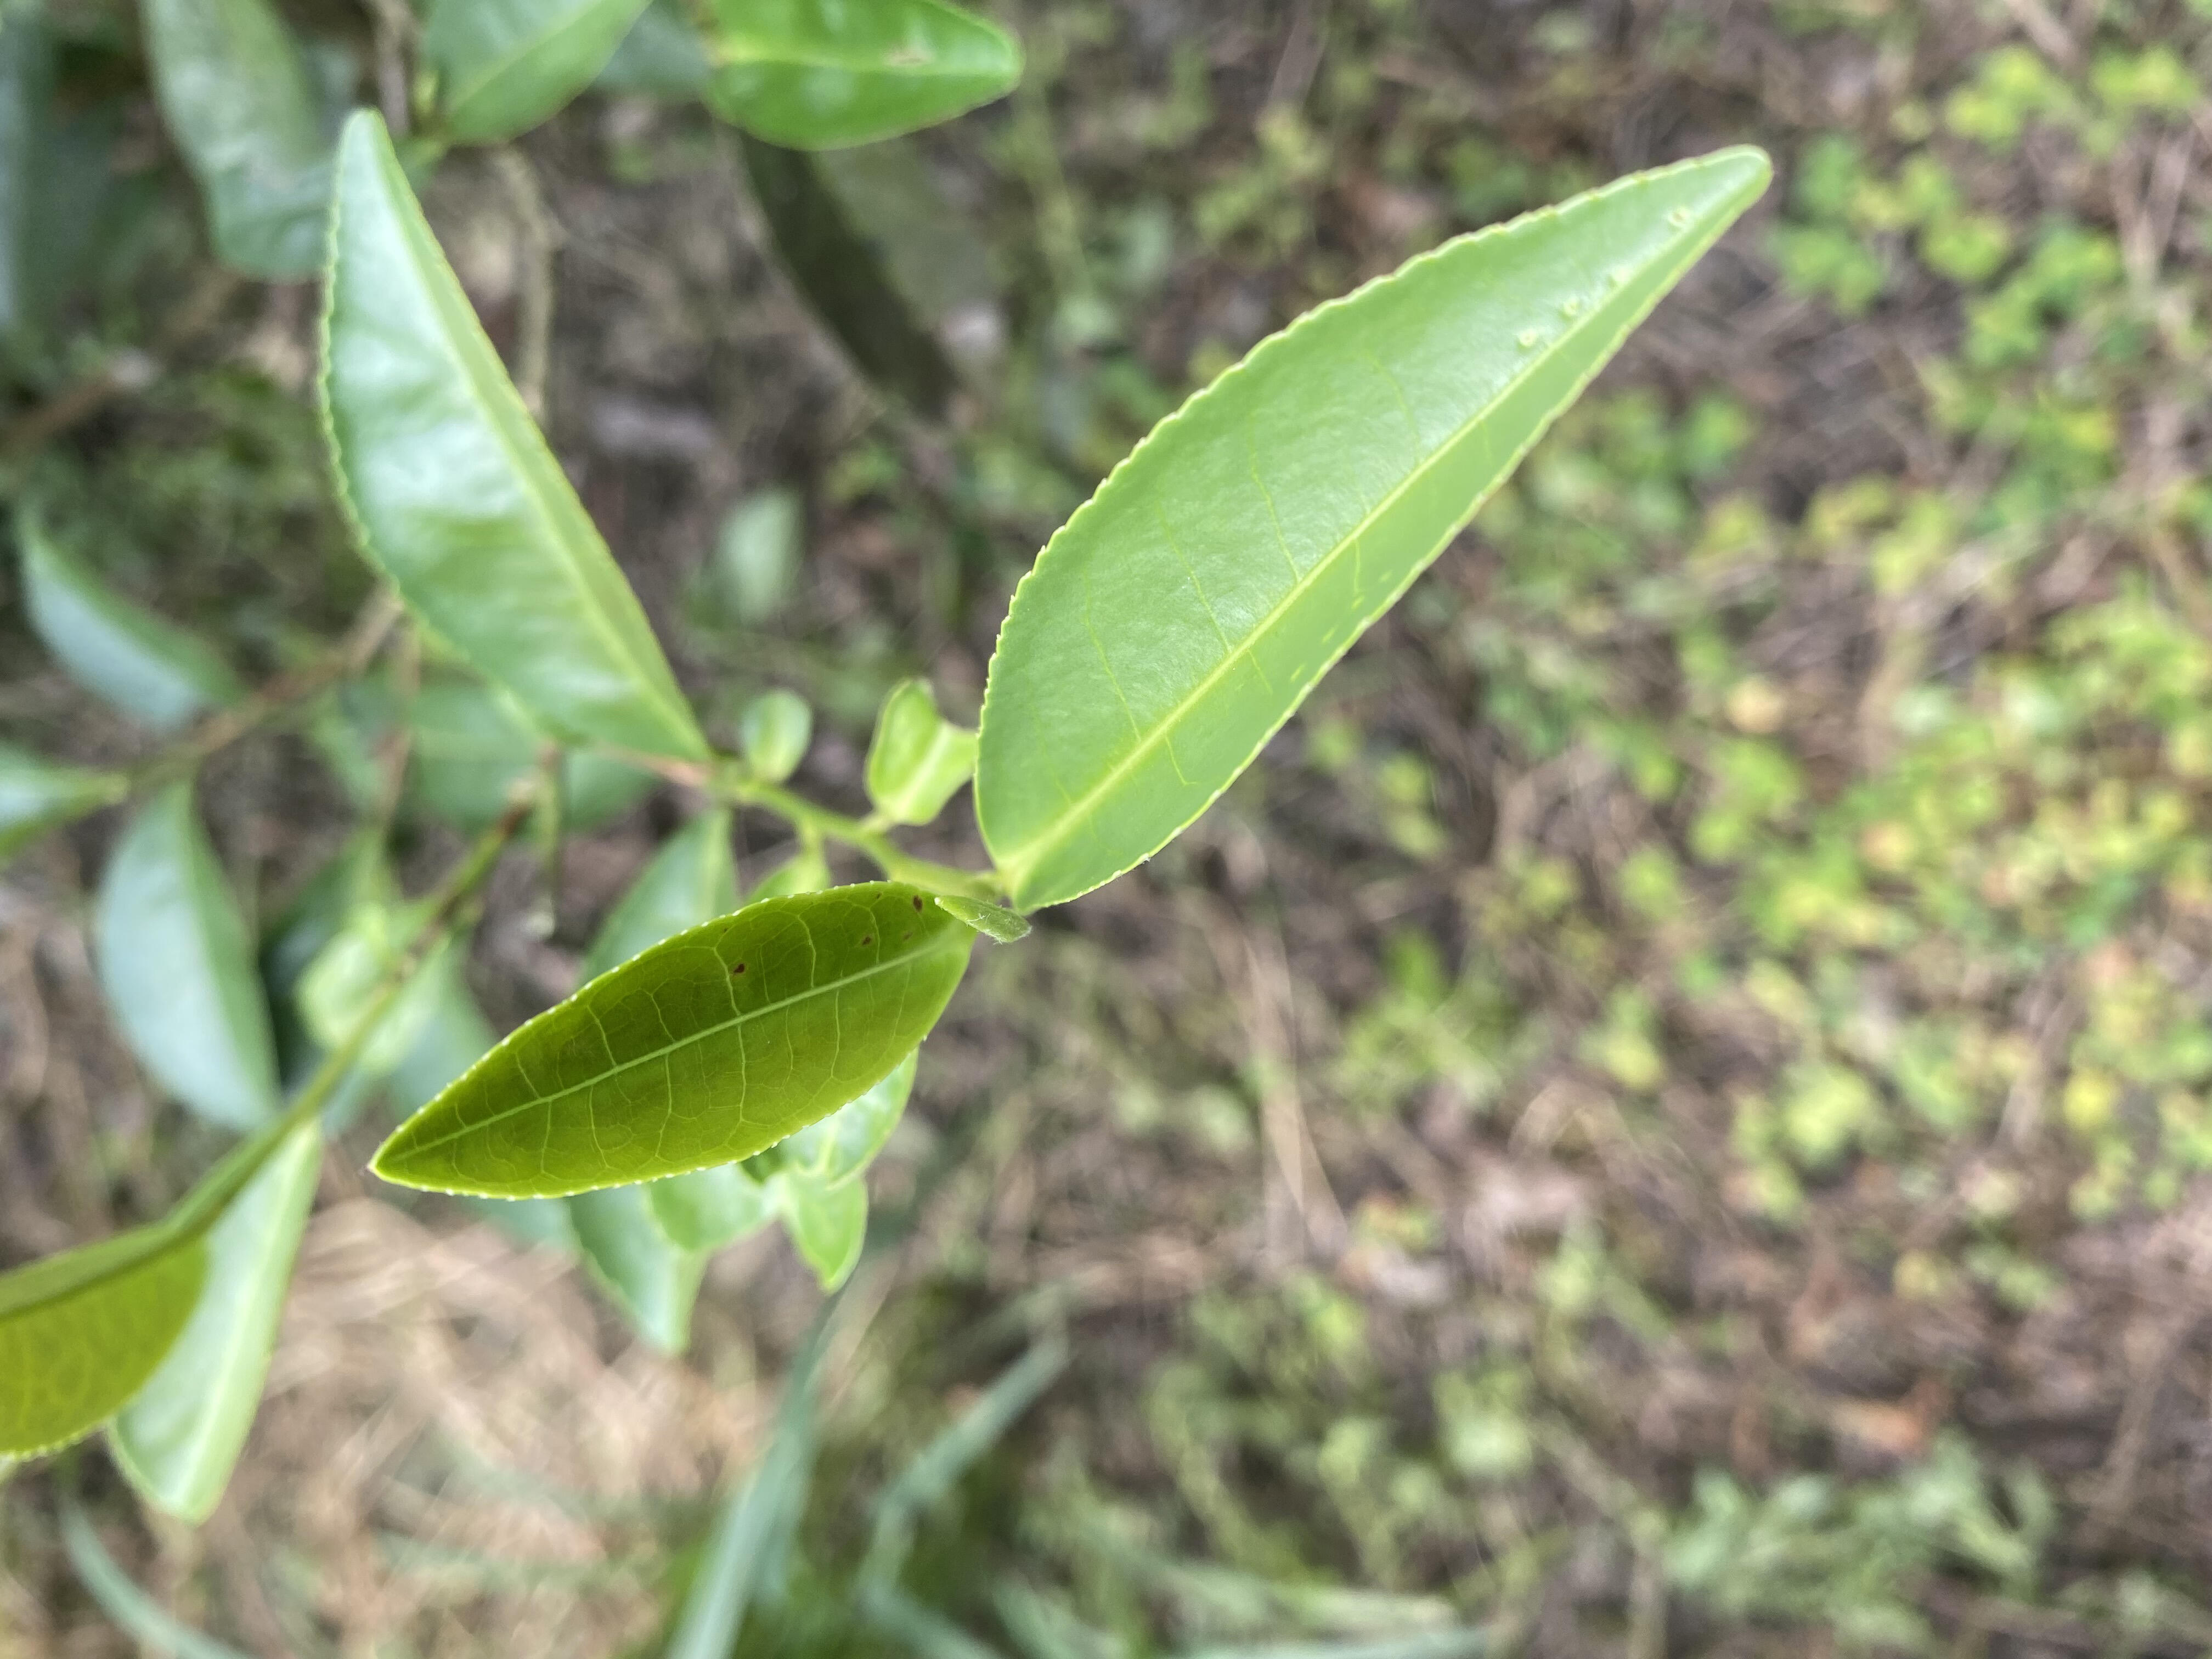healthy: (970, 145, 1771, 918), (312, 110, 709, 756)
tanju_low: (374, 878, 977, 1201)
